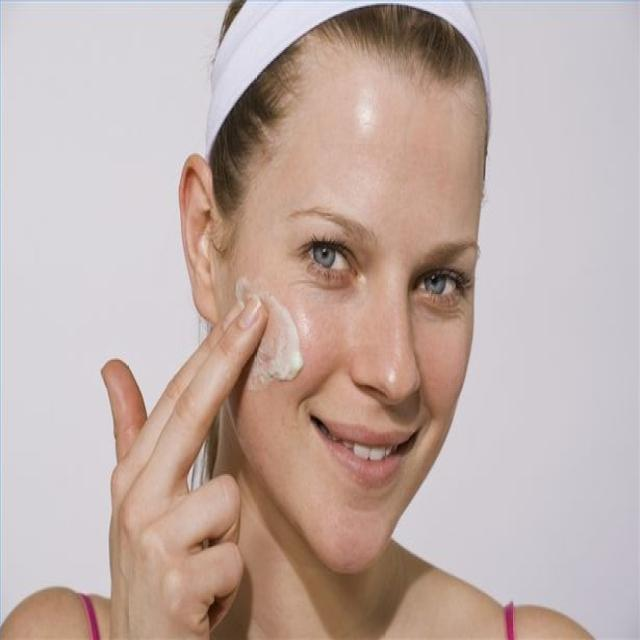Oily-Skin: (386, 300, 404, 404), (349, 84, 379, 144), (294, 300, 314, 338)
